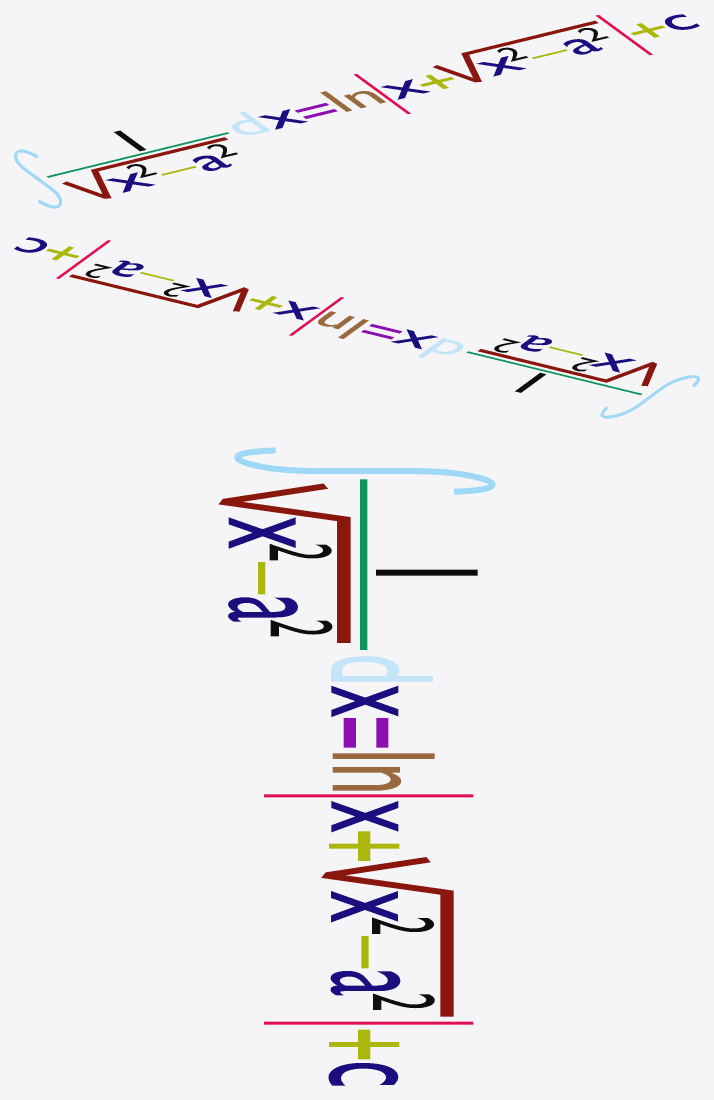
The model's file is int1peradxla2minusala2.glb.
3 renders of one model, top to bottom at view 1: azimuth 30°, elevation 25°; view 2: azimuth 150°, elevation 25°; view 3: azimuth 270°, elevation 25°, orthographic. The views are drawn at different scales.
Parts seen in each view (by area): view 1: int din 1 pe rad din x la 2 minus a la 2 dx; view 2: int din 1 pe rad din x la 2 minus a la 2 dx; view 3: int din 1 pe rad din x la 2 minus a la 2 dx.
Part boxes in pixels (x1,y1,x2,y2): int din 1 pe rad din x la 2 minus a la 2 dx: (14, 14, 699, 208); int din 1 pe rad din x la 2 minus a la 2 dx: (14, 237, 699, 418); int din 1 pe rad din x la 2 minus a la 2 dx: (219, 447, 495, 1085).
Size of the model in its own units: 10.09 by 0.0401 by 1.86.
